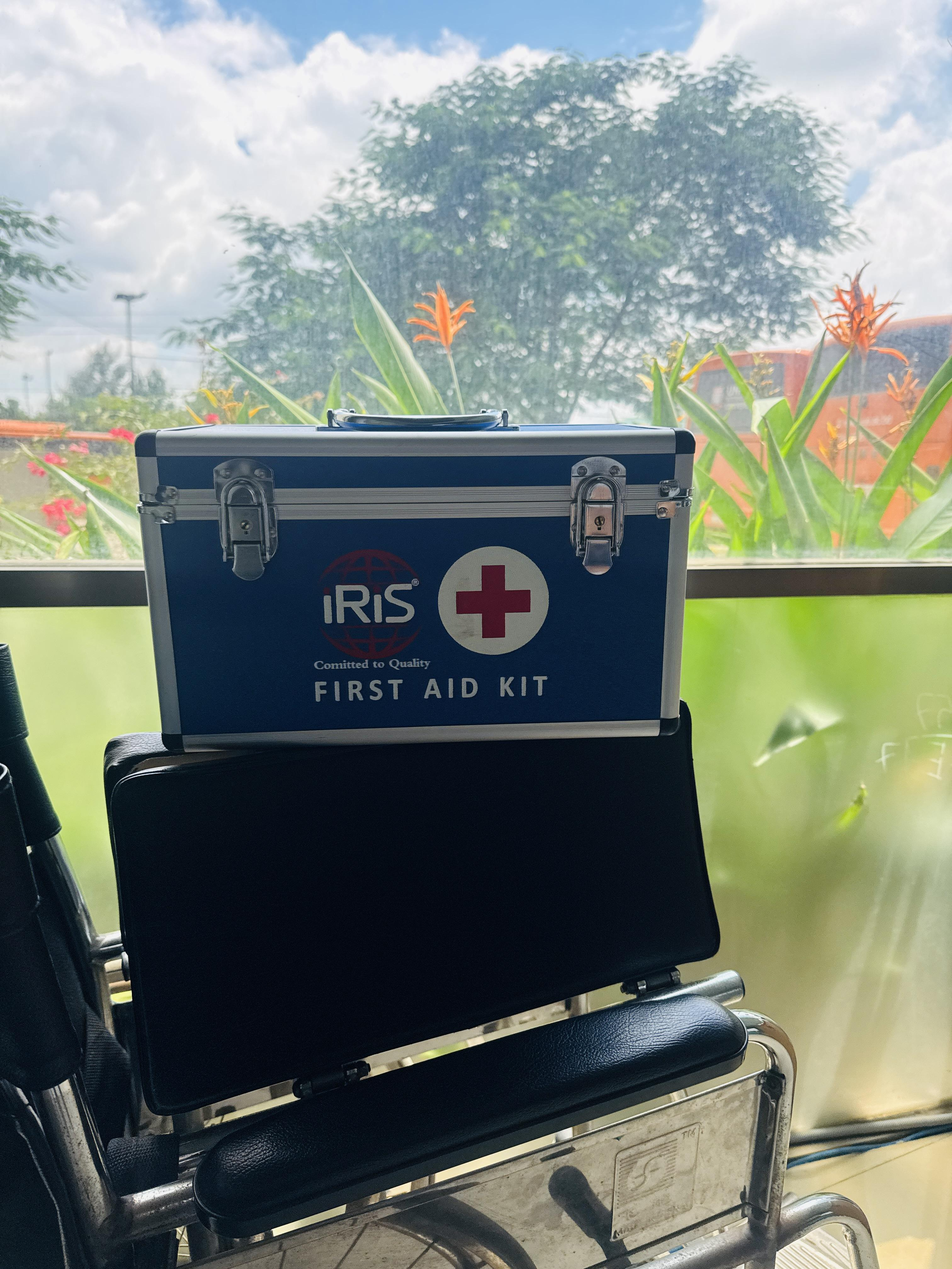FirstAidBox: (113, 384, 726, 816)
